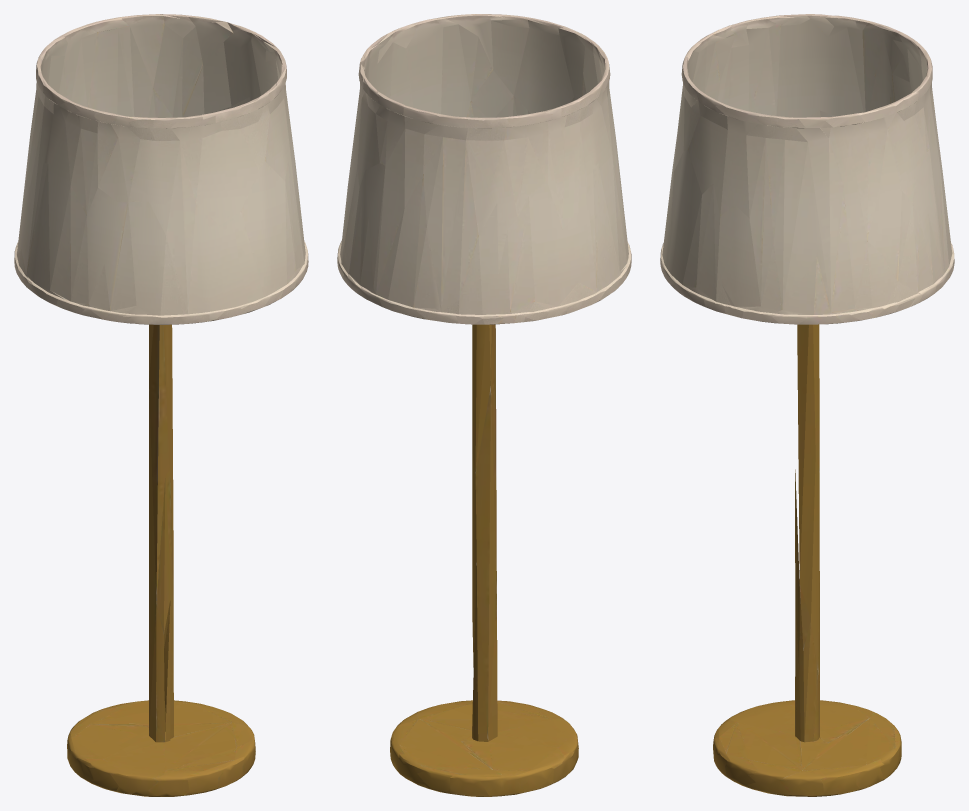
The model's file is lamp.glb.
3 views of the same model, side by side, from view 1: azimuth 30°, elevation 25°; view 2: azimuth 150°, elevation 25°; view 3: azimuth 270°, elevation 25° (orthographic).
Size of the model in its own units: 0.6158 by 1.6 by 0.6155.
Materials: 1 (1 with a texture image).
